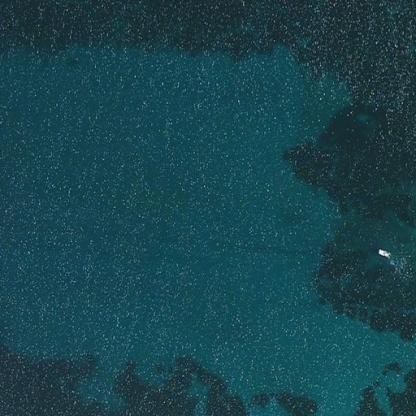ship: (371, 244, 394, 260)
